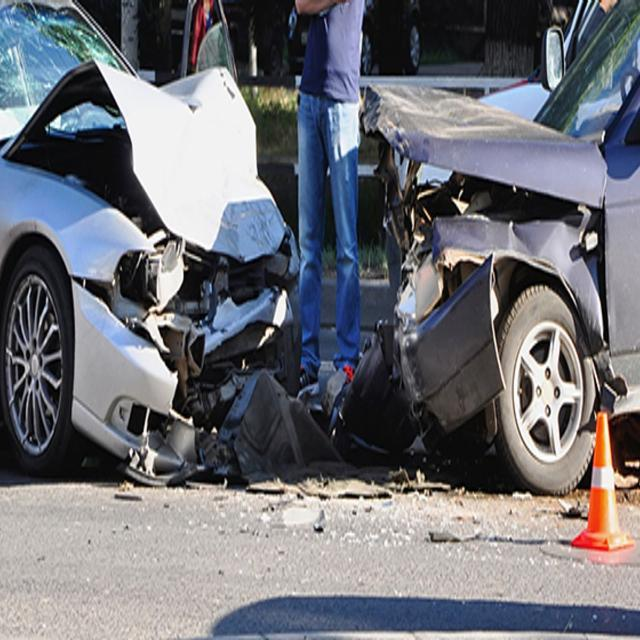accident: (0, 5, 339, 485), (330, 0, 640, 494)
car: (482, 0, 616, 120)
